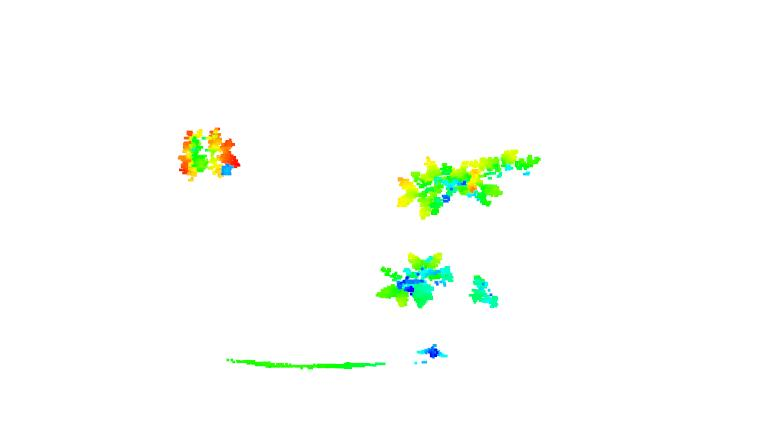chickpea: (371, 252, 454, 313), (462, 148, 549, 206), (393, 159, 459, 220), (202, 128, 249, 180), (172, 129, 206, 184), (459, 271, 502, 314)
